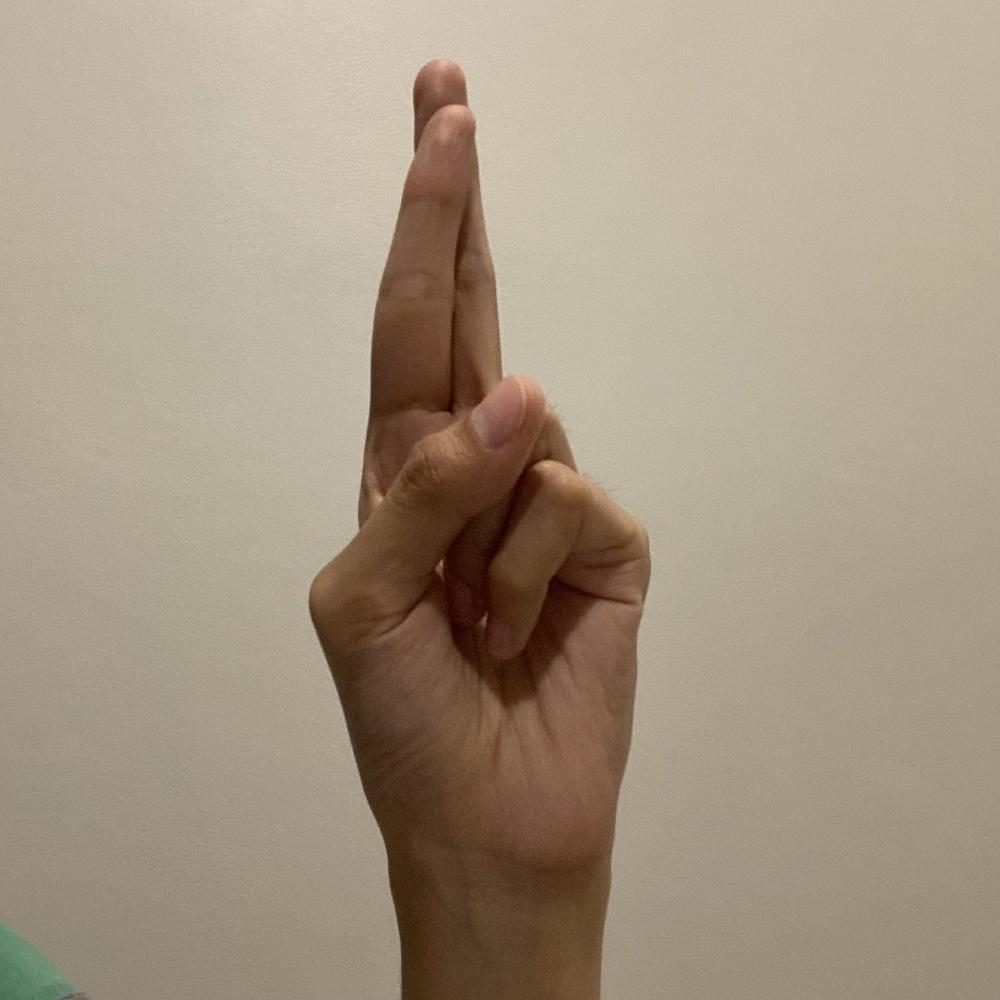r: (304, 51, 655, 883)
